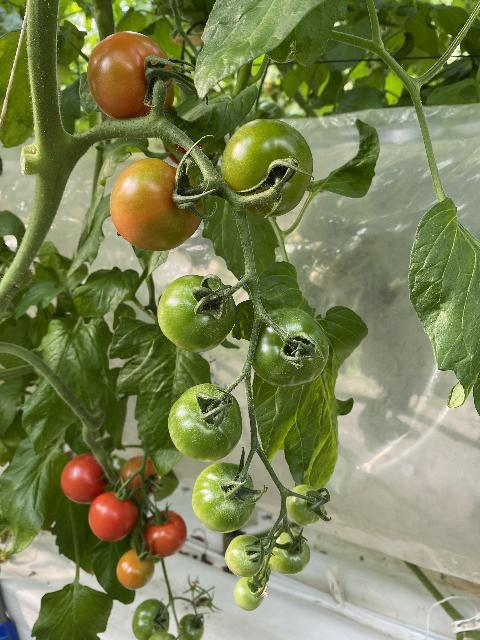l_fully_ripened: (88, 490, 138, 542), (60, 453, 105, 505), (141, 510, 187, 558)
l_green: (220, 117, 314, 217), (249, 309, 329, 388), (156, 274, 237, 352), (167, 383, 243, 461), (191, 461, 256, 533), (266, 529, 311, 575), (225, 534, 265, 577), (286, 484, 325, 527), (131, 599, 169, 640), (233, 577, 265, 612), (178, 614, 204, 640)
l_half_ripened: (109, 158, 205, 252), (87, 32, 175, 120), (117, 456, 161, 498), (115, 549, 155, 589)
